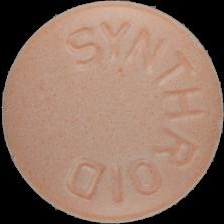69189-4341: (0, 0, 224, 224)
